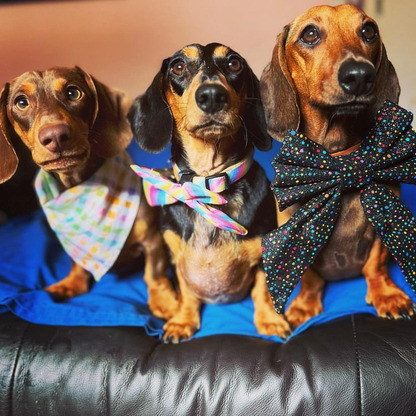dachshund: (135, 34, 290, 332), (267, 5, 405, 319), (8, 64, 138, 281)
